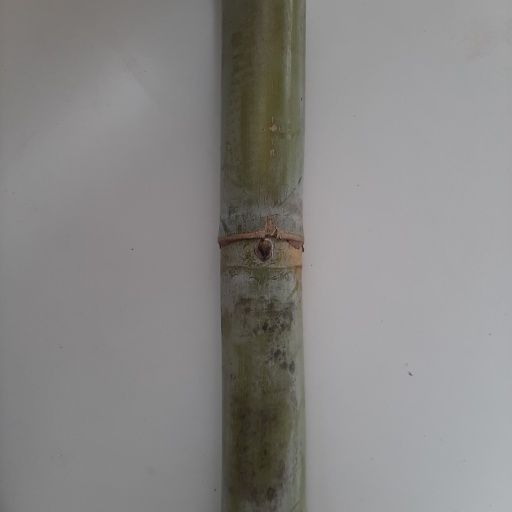Bud: (253, 236, 274, 264)
